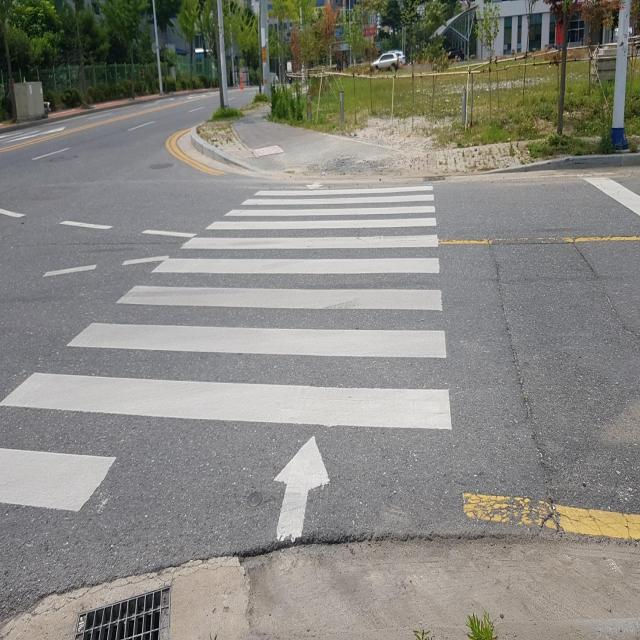횡단보도: (0, 180, 454, 544)
